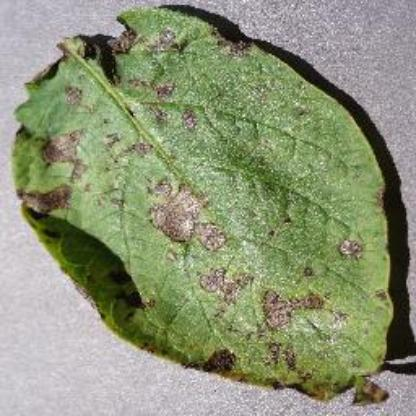Early-Blight: (16, 6, 396, 406)
